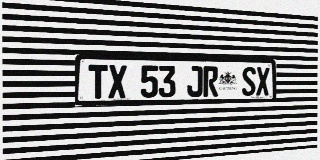3: (159, 65, 175, 97)
5: (141, 65, 158, 98)
J: (187, 66, 203, 97)
R: (203, 66, 218, 97)
S: (242, 67, 256, 96)
T: (89, 64, 108, 99)
X: (108, 65, 127, 98), (256, 67, 270, 96)
